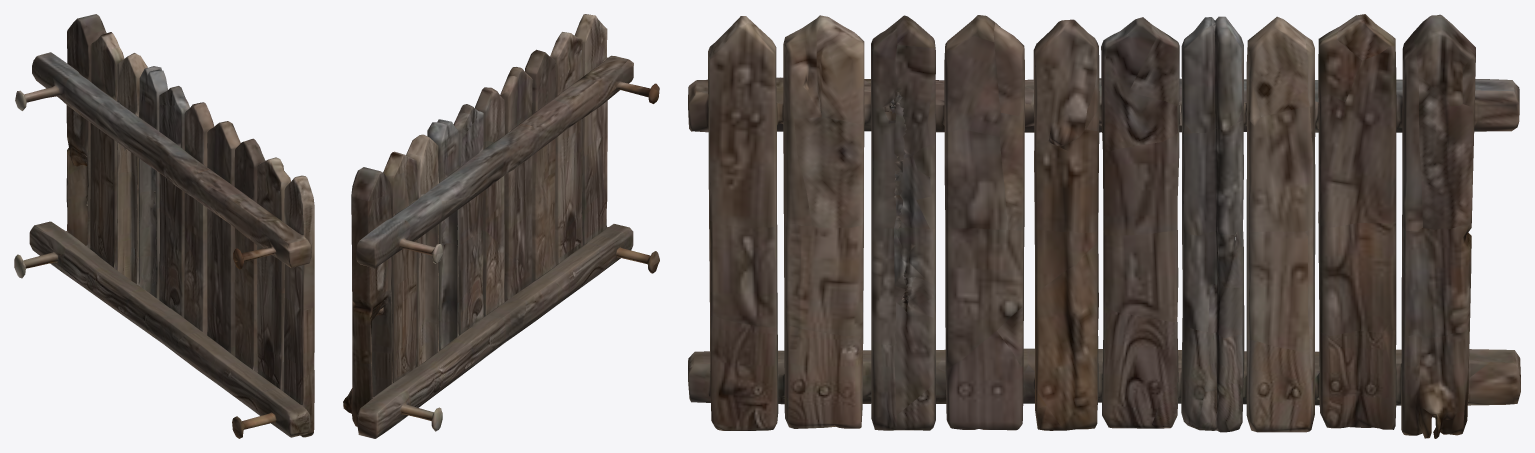
File: fence.glb
3 renders of one model, left to right at view 1: azimuth 30°, elevation 25°; view 2: azimuth 150°, elevation 25°; view 3: azimuth 270°, elevation 25°, orthographic. The views are drawn at different scales.
Size of the model in its own units: 0.2176 by 0.5434 by 0.9999.
1 material, 1 textured.
